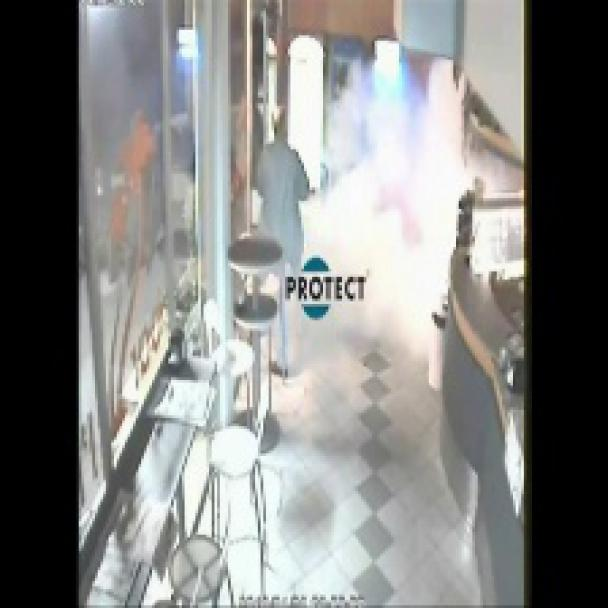smoke: (243, 32, 512, 358)
